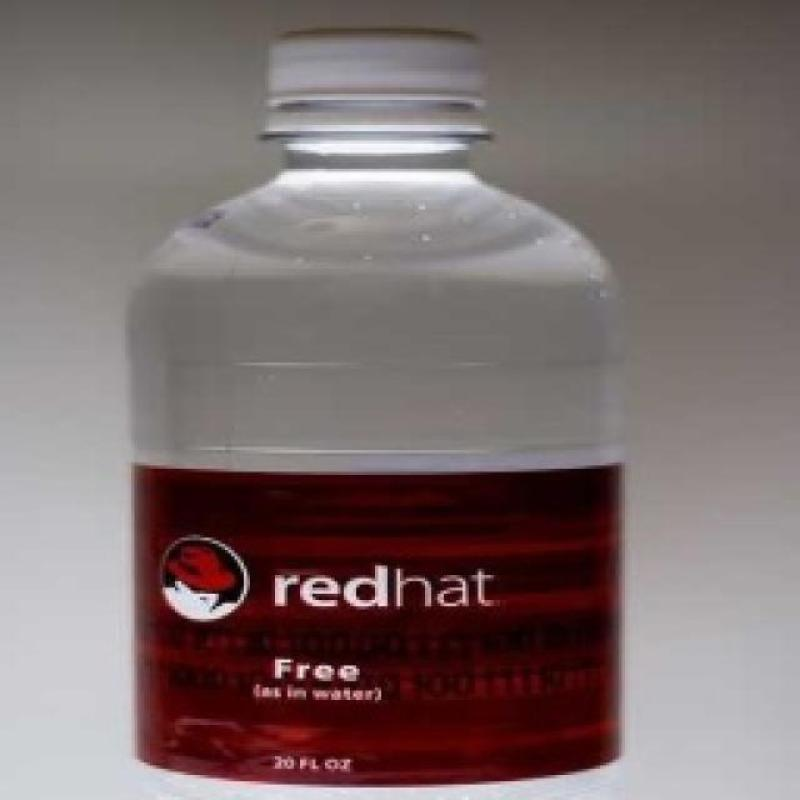botella: (115, 27, 634, 800)
